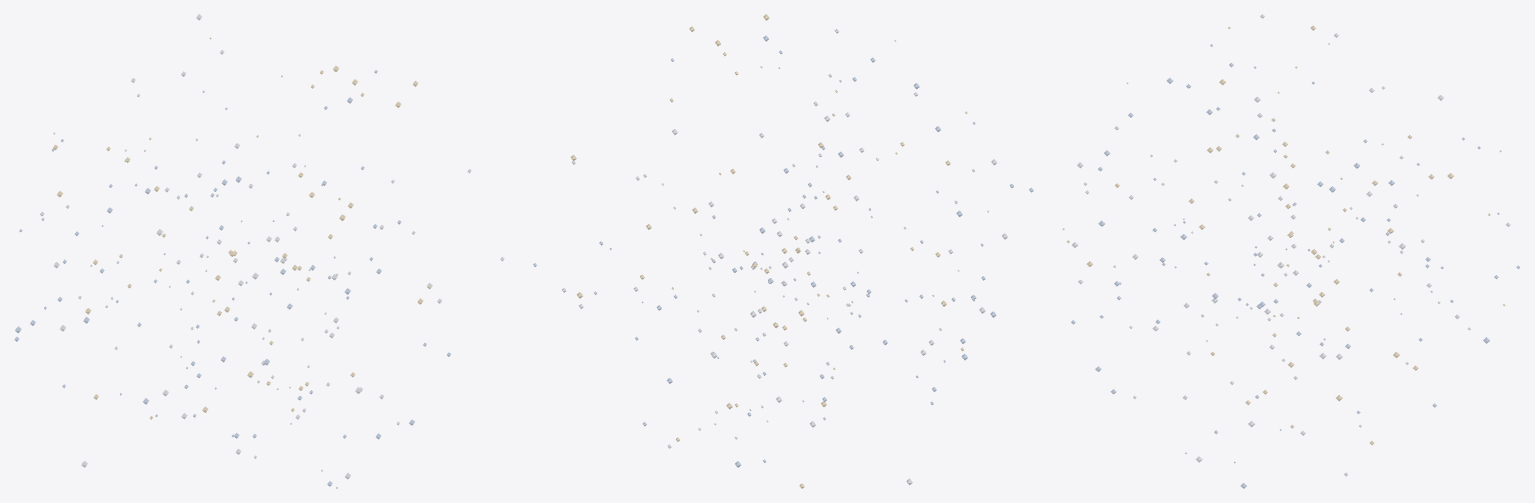
The picture shows the model from 3 angles, left to right: view 1: azimuth 30°, elevation 25°; view 2: azimuth 150°, elevation 25°; view 3: azimuth 270°, elevation 25°; orthographic projection. The views are drawn at different scales.
Size of the model in its own units: 4.98 by 4.72 by 4.78.
